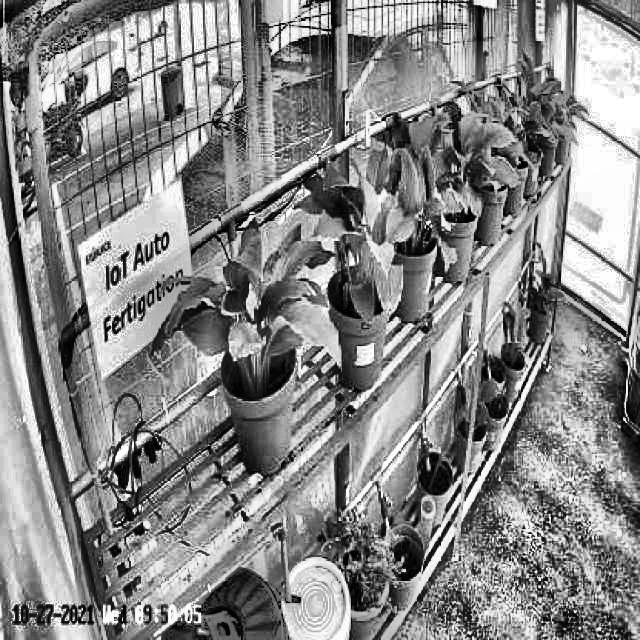plants: (149, 218, 342, 394), (302, 169, 404, 331), (369, 109, 457, 286), (410, 106, 519, 217)
